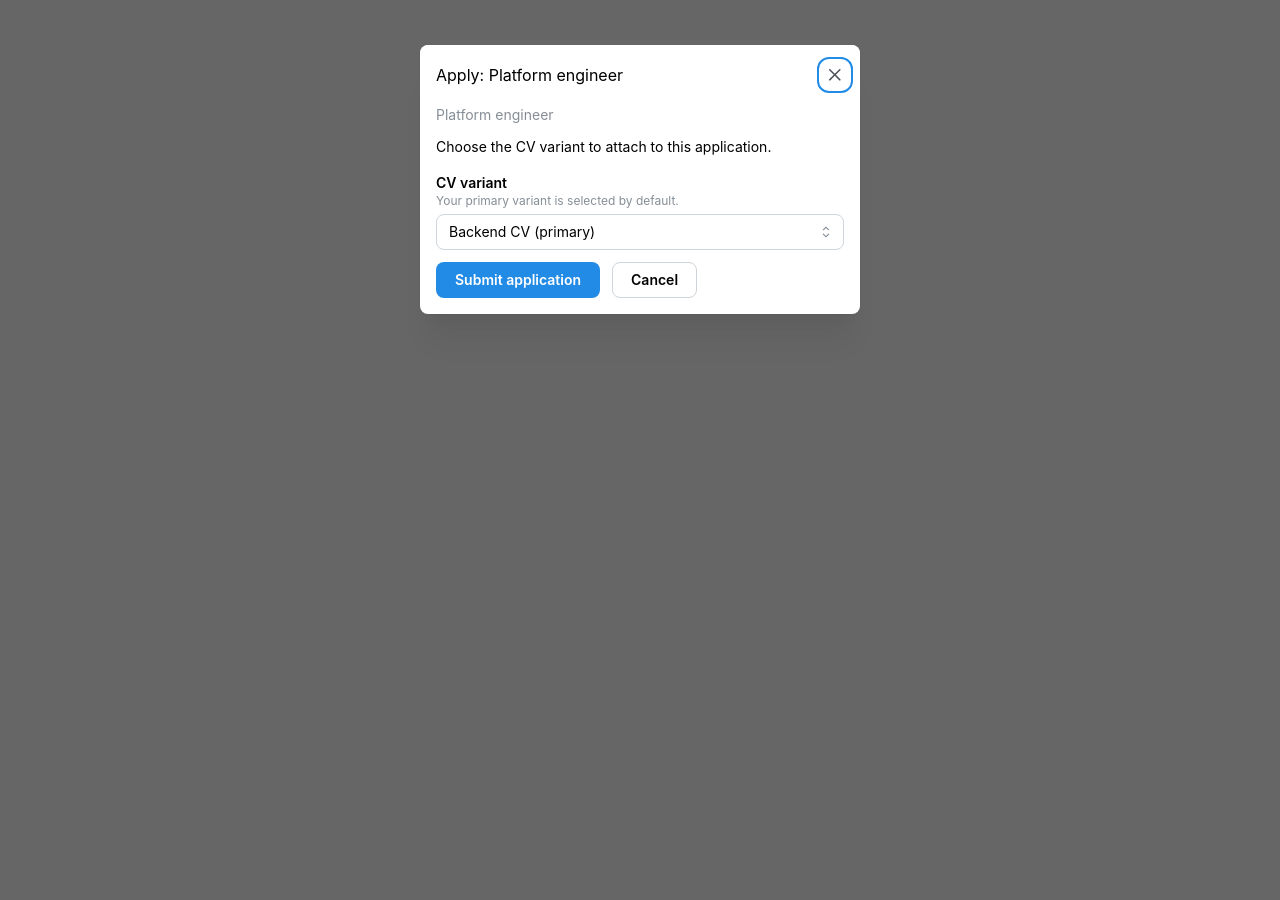
Test: a precondition_unmet refusal (Req 14 AC6) › renders each reported entry as its own condition, in the reported order
The width and height of the screenshot is (1280, 900).
Expected: the dropdown with test id "apply-variant-select" is shown, [436,214,844,250]
Click the button with test id "apply-submit" at (518, 280), box [436,262,600,298]
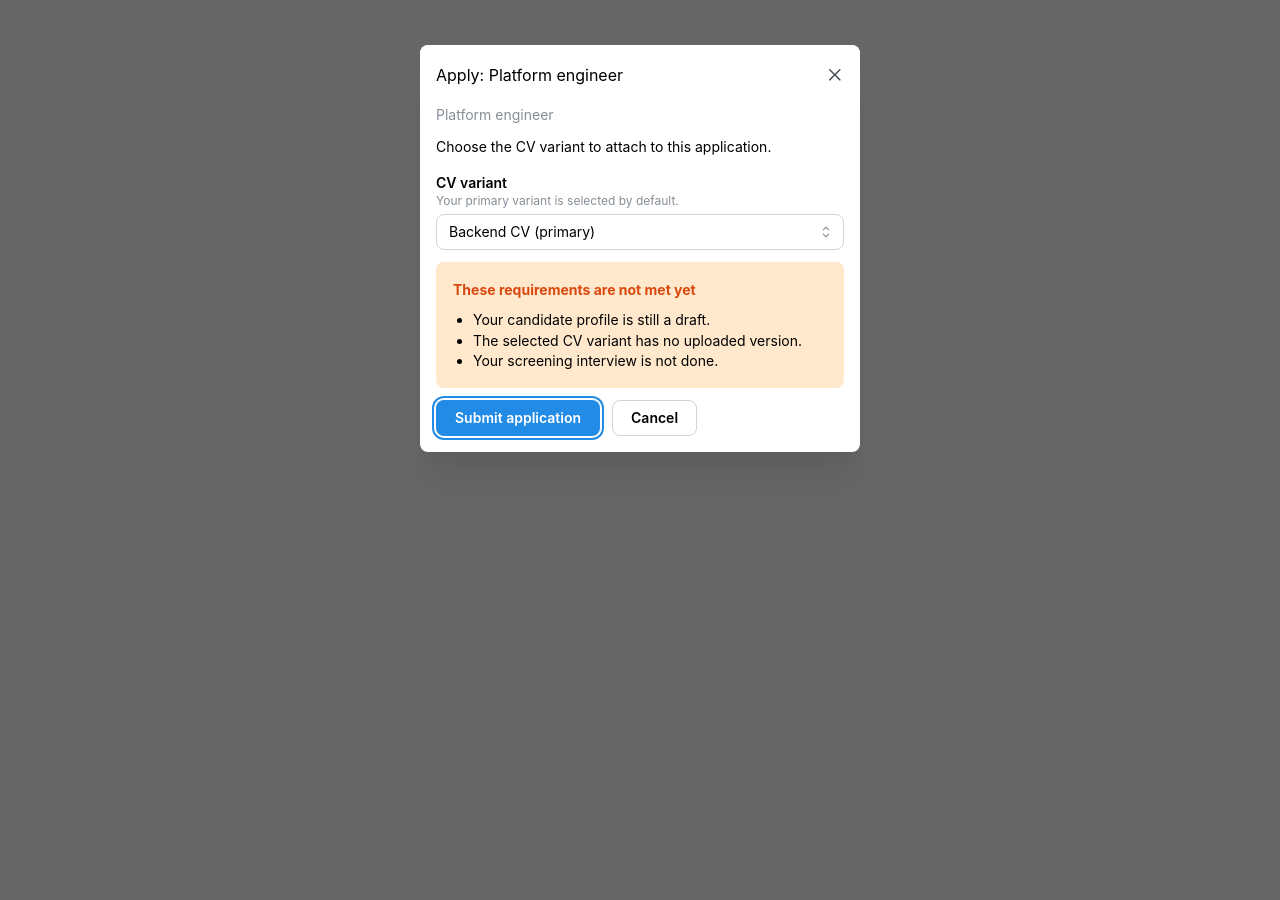
Result: the message with test id "apply-precondition-unmet" is shown at [436,262,844,388]
Result: the number of list items with test id "apply-unmet-condition" is 3 at [473,312,710,328]; [473,331,827,351]; [473,352,718,369]
Result: the elements with test id "apply-unmet-condition" read "Your candidate profile is still a draft.", "The selected CV variant has no uploaded version.", "Your screening interview is not done.", in this order at [473,312,710,328]; [473,331,827,351]; [473,352,718,369]
